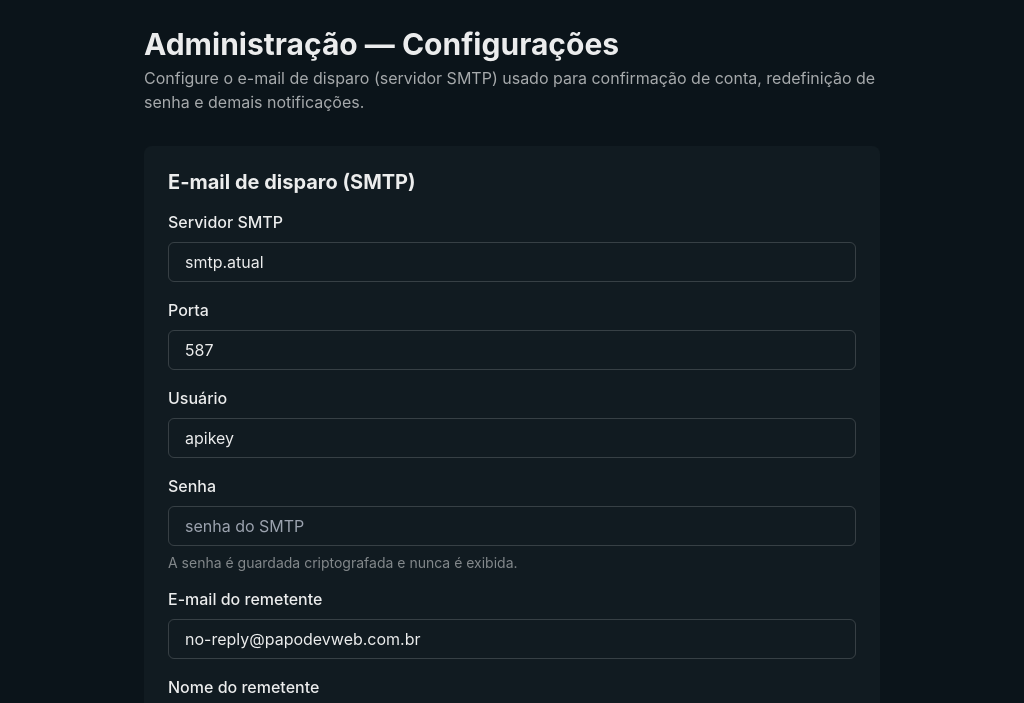
Test case: AdminSettingsPage › mostra erro de validação quando o servidor SMTP fica vazio
Clear the field labelled "Servidor SMTP": {"x": 512, "y": 262} [168,242,856,282]
(page scrolled)
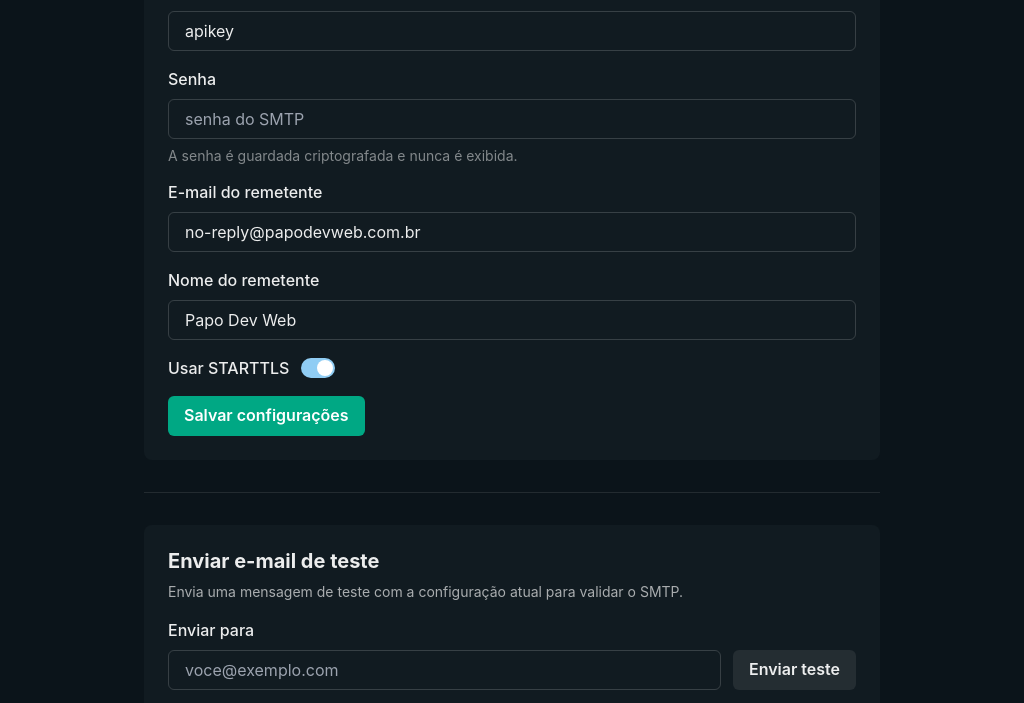
Click the button "Salvar configurações": {"x": 266, "y": 416} [168,396,365,436]
(page scrolled)
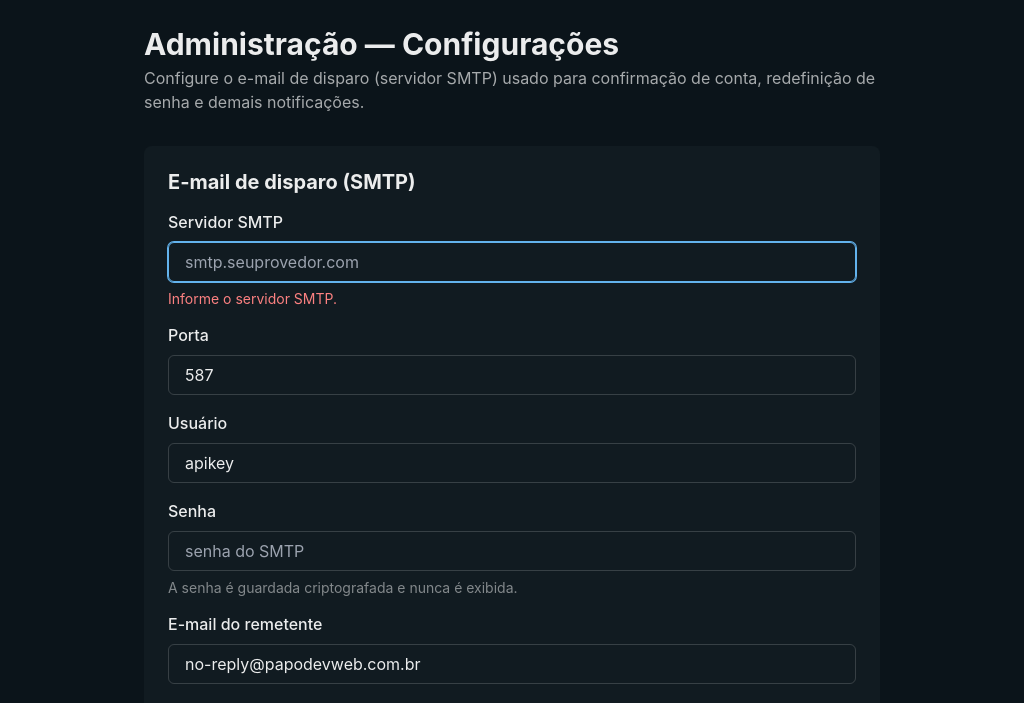
Now the text "Informe o servidor SMTP." is shown, box [168,290,337,307]
